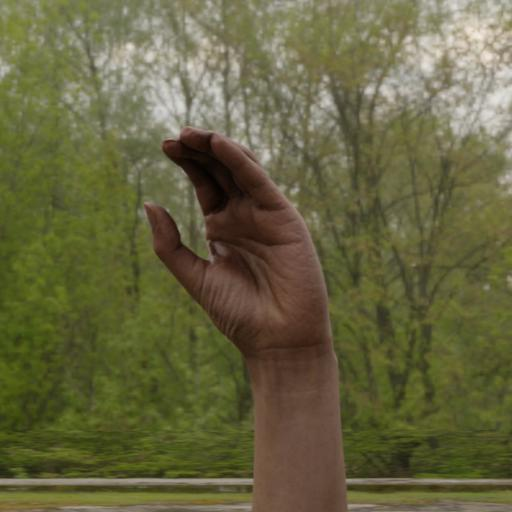C: (119, 105, 344, 365)
